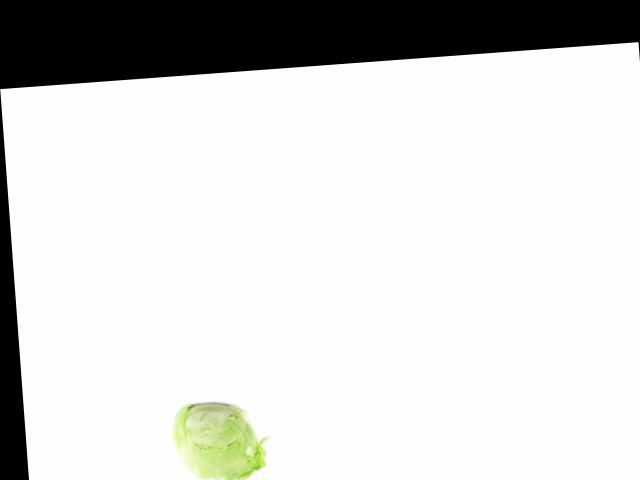lettuce: (167, 395, 264, 480)
